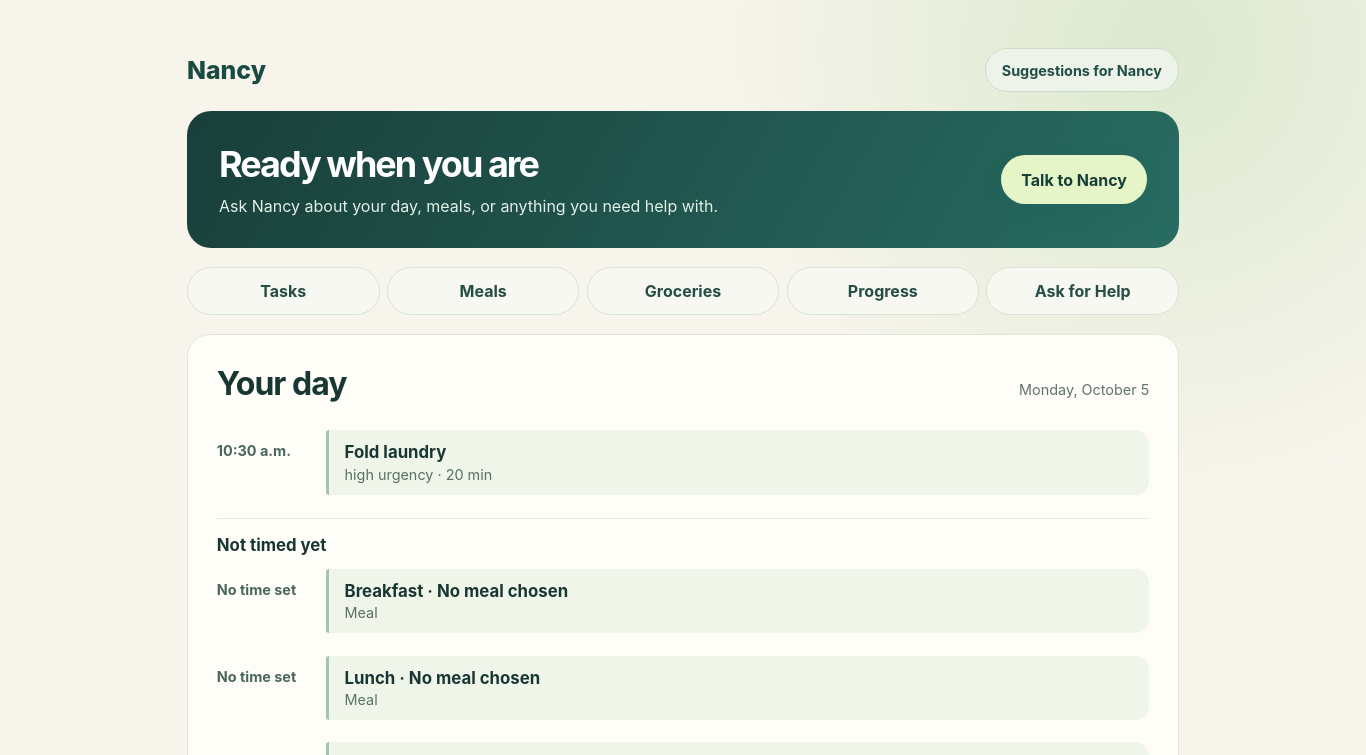
Scenario: My Day client workflow › keeps a specific local voice startup error after its promise rejects, with a generic fallback otherwise
Click the button "Talk to Nancy": (1074, 180) [1001,155,1147,204]
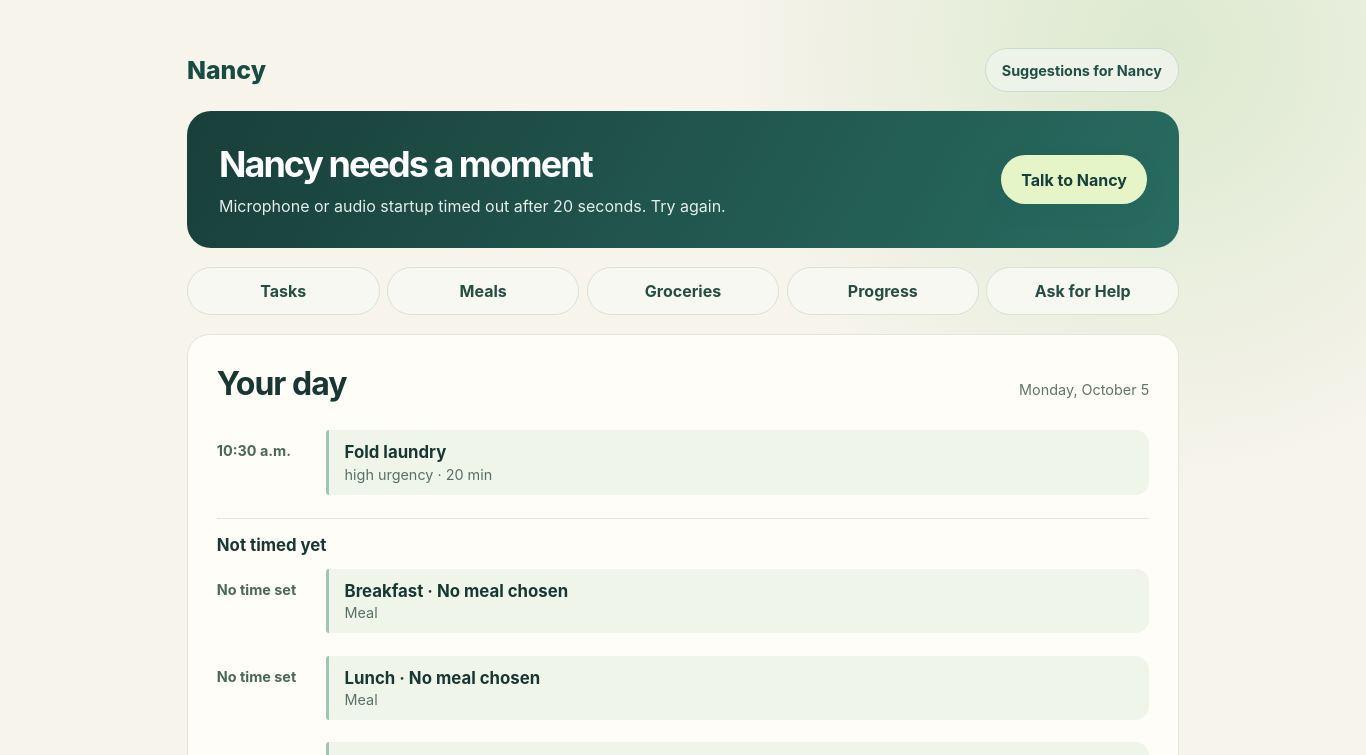
Result: the text "Microphone or audio startup timed out after 20 seconds. Try again." is shown at [219,196,726,216]
Click the button "Talk to Nancy": (1074, 180) [1001,155,1147,204]
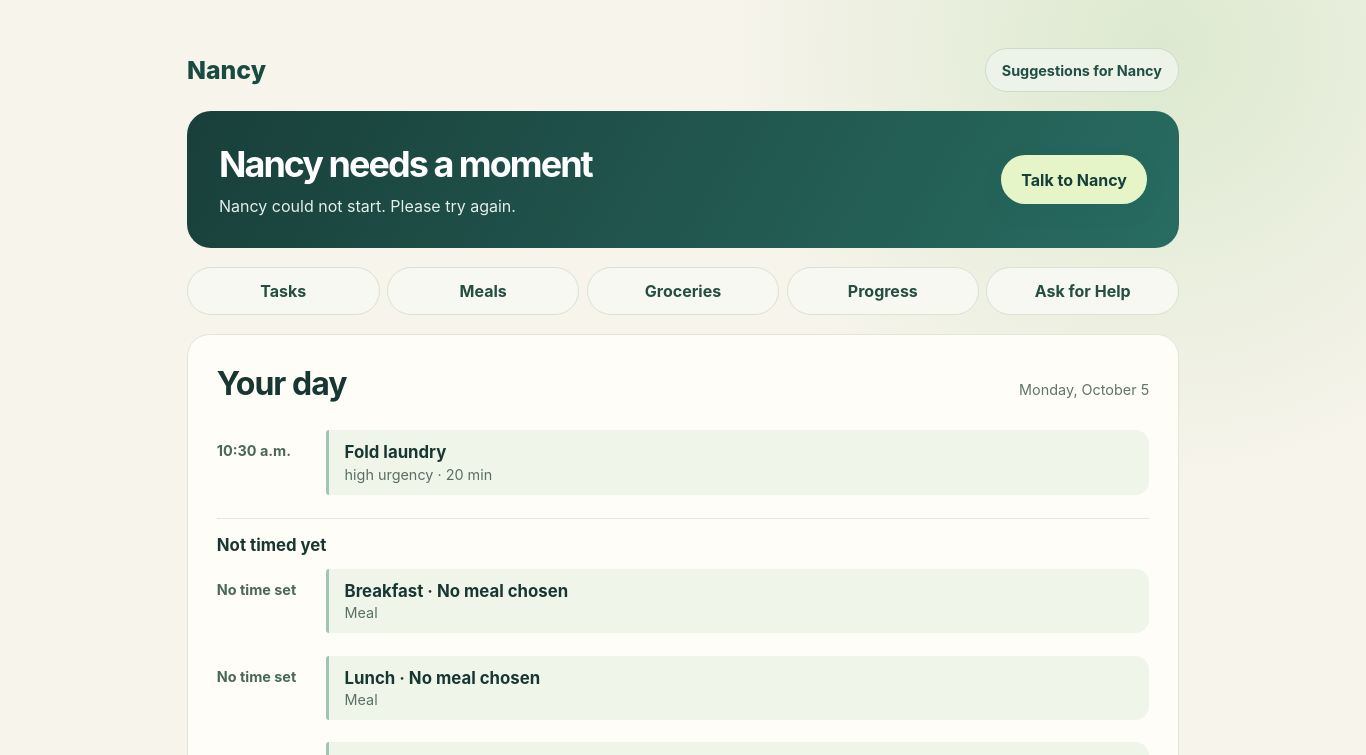
Result: the text "Nancy could not start. Please try again." is shown at [219,196,516,216]
